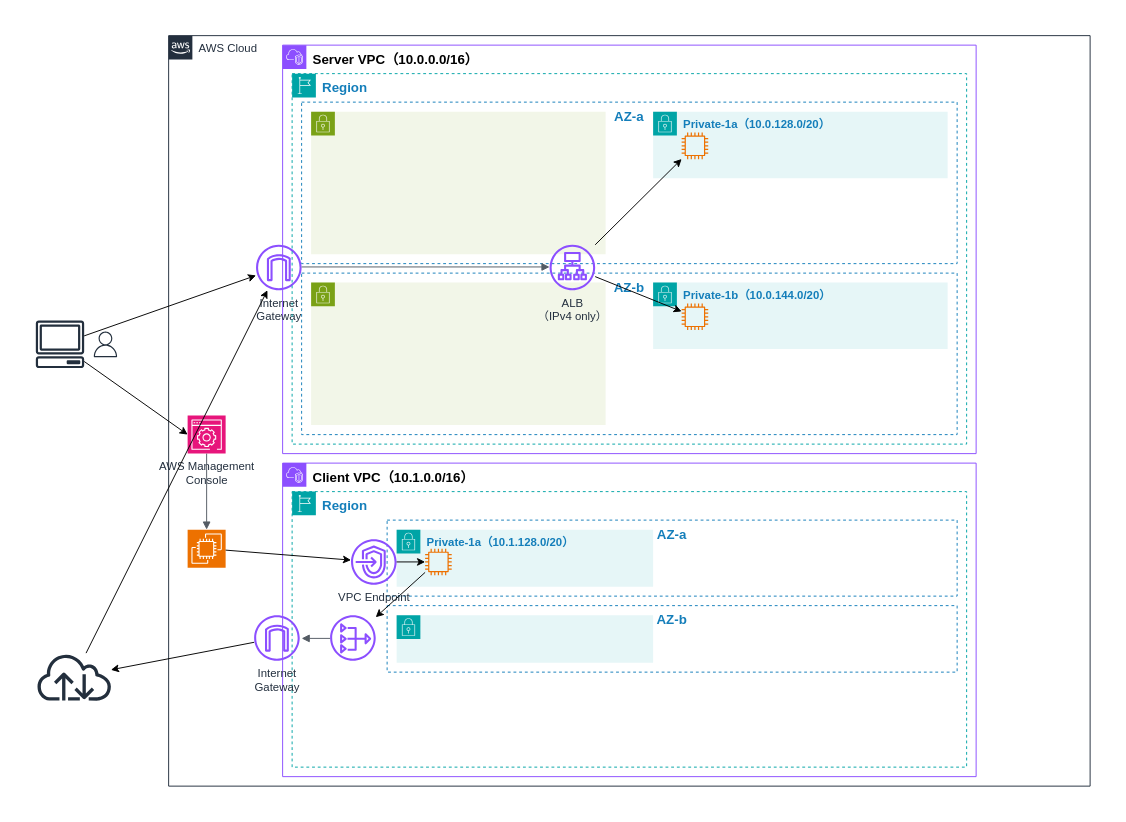
The diagram is 1126 pixels wide and 822 high, and some of its shapes have lost their labels. The centre of each missing label's shape, as x and y in pixels:
"Client-1" goes at point (438, 561).
"EC2 Instance Connect （Private）" goes at point (206, 548).
"NAT Gateway （Regional）" goes at point (352, 637).
"Private-1b（10.1.144.0/20）" goes at point (524, 638).
"Public-a（10.0.0.0/20）" goes at point (458, 182).
"Public-b（10.0.16.0/20）" goes at point (458, 353).
"Web Server-1a" goes at point (694, 145).
"Web Server-1b" goes at point (694, 316).
